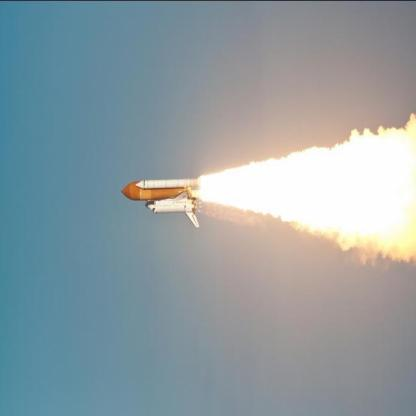MIL_TBM: (135, 176, 205, 190)
